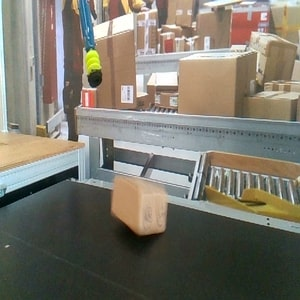box: (109, 173, 169, 237)
